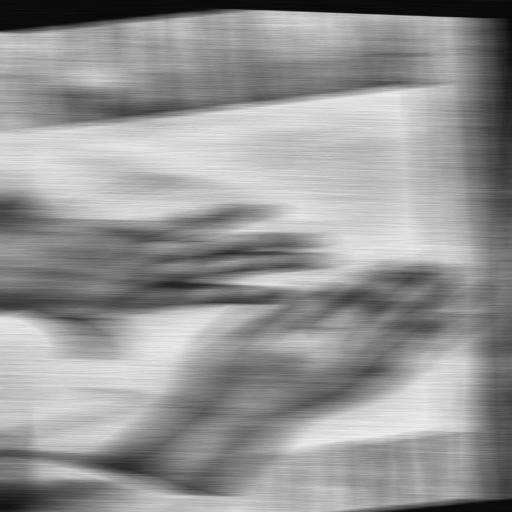boat: (39, 145, 450, 430)
bottom_left: (6, 473, 35, 483)
top_left: (444, 424, 471, 432)
top_right: (408, 78, 442, 89)
